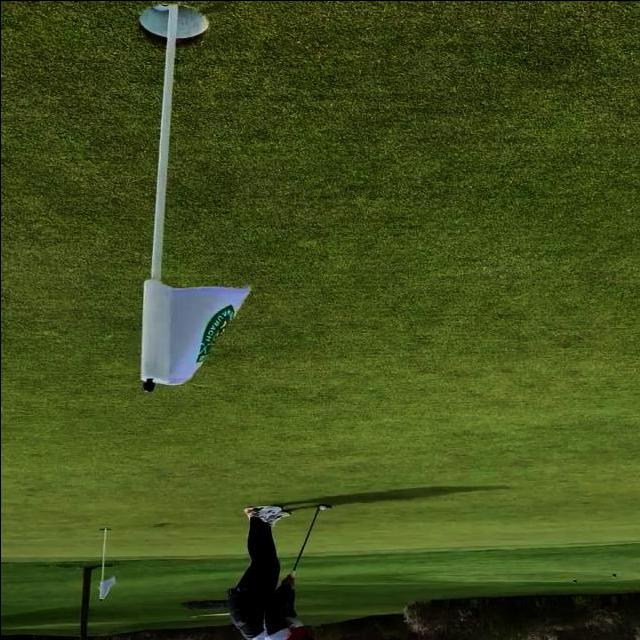golf ball: (318, 504, 324, 509)
golf club-handle: (286, 501, 332, 579)
golf club-head: (315, 504, 329, 509)
